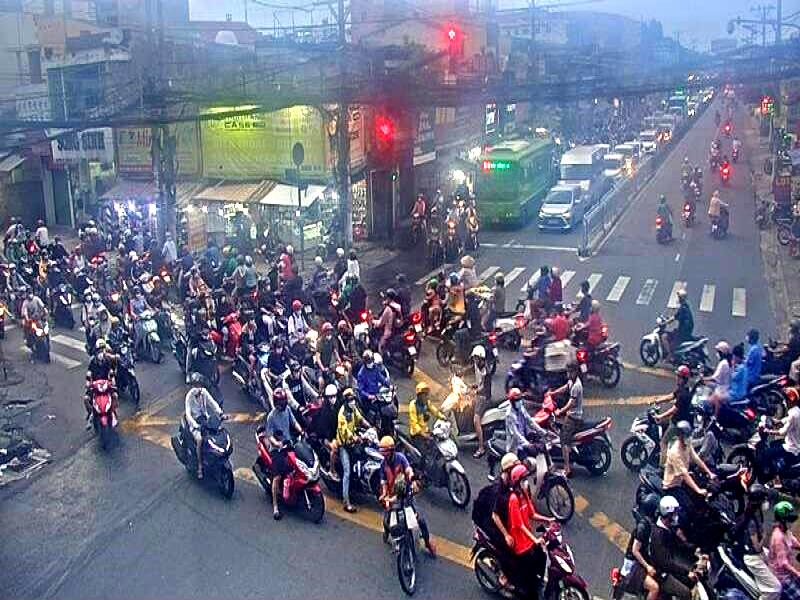motorcycle: (468, 514, 591, 600), (252, 422, 329, 528), (167, 412, 241, 501), (375, 470, 423, 600), (80, 364, 119, 452)
